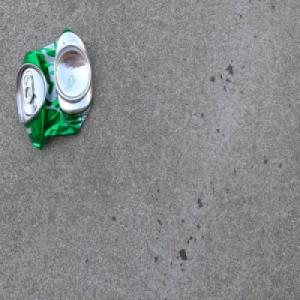SodaCan: (15, 26, 94, 151)
